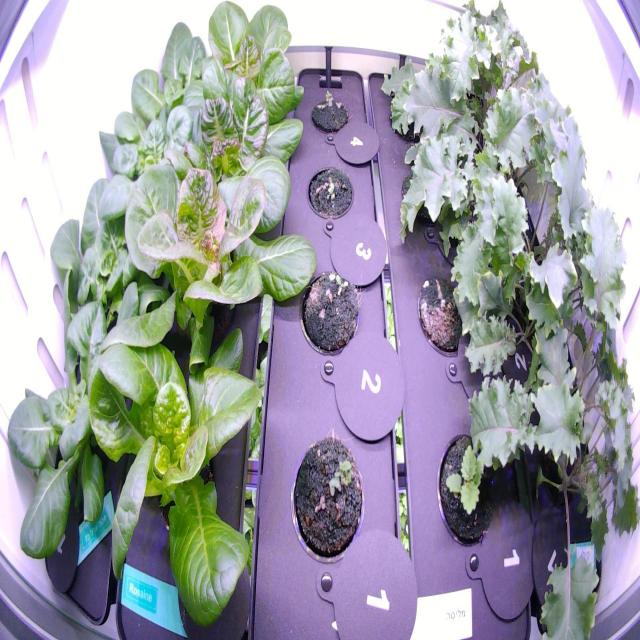germination: (284, 417, 368, 572), (293, 258, 365, 360), (415, 269, 471, 370), (304, 158, 357, 226), (304, 82, 352, 140)
young: (71, 262, 269, 636), (114, 99, 318, 355), (0, 299, 139, 588), (38, 172, 182, 398), (84, 87, 210, 270), (166, 50, 312, 199), (190, 0, 311, 146), (107, 5, 217, 165)
